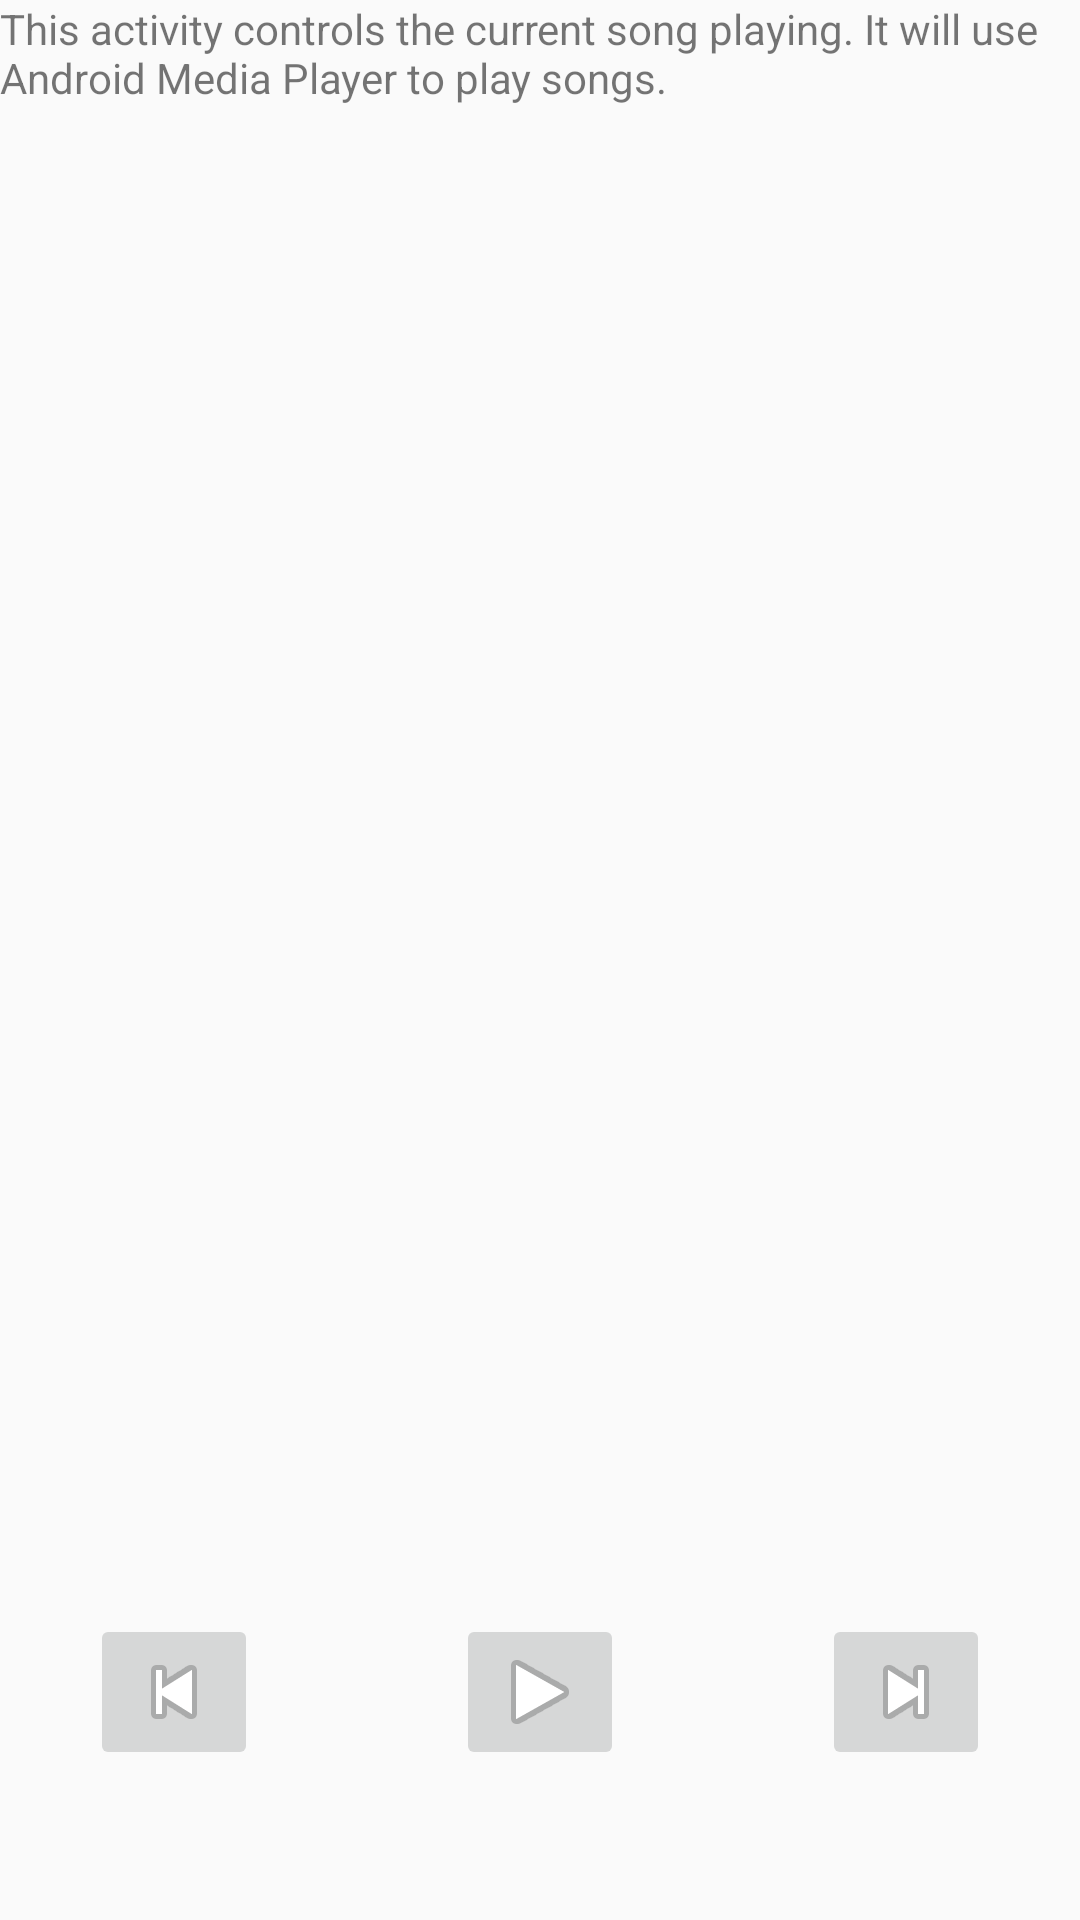

Point at icon controls on the screen. Image size 1080x1920, points as (x,y).
next: (906,1692)
previous: (174,1692)
